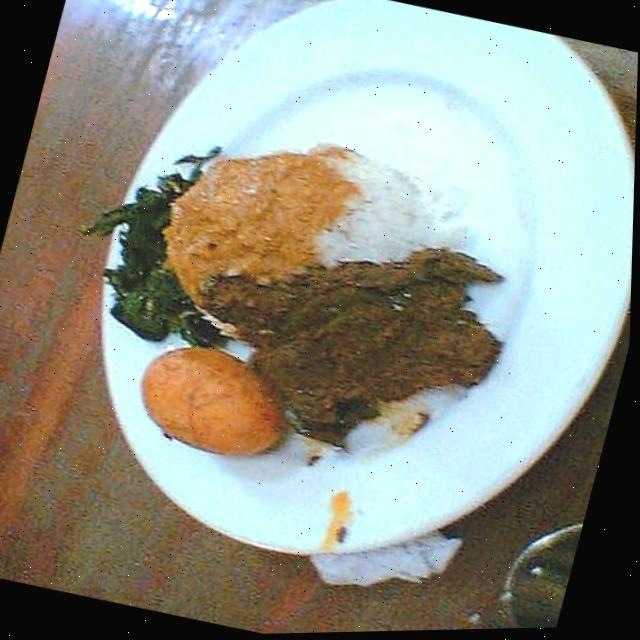米饭主食: (14, 0, 640, 629)
